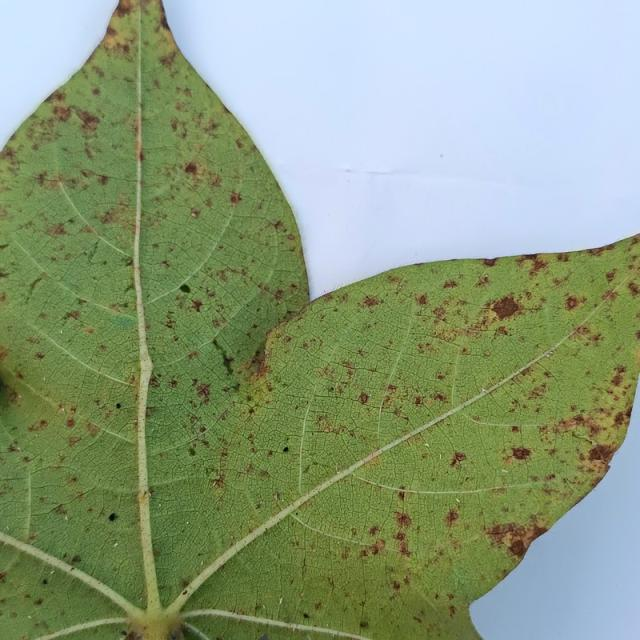Bacterial_Blight: (245, 344, 269, 381), (69, 106, 100, 133), (489, 295, 521, 321), (586, 443, 616, 464), (571, 430, 598, 450), (99, 206, 126, 225), (243, 390, 264, 413), (486, 523, 522, 536), (27, 271, 46, 293), (110, 315, 136, 331), (507, 537, 526, 557), (528, 258, 550, 275), (158, 49, 177, 68), (309, 478, 327, 498), (45, 222, 68, 237), (481, 309, 500, 327), (366, 539, 386, 556), (449, 451, 467, 469), (208, 472, 226, 490), (315, 416, 334, 433), (220, 353, 234, 376), (86, 241, 100, 263), (510, 446, 531, 460), (564, 295, 582, 311), (53, 105, 71, 121), (195, 382, 211, 400), (444, 508, 460, 526), (361, 294, 381, 308), (159, 9, 171, 30), (395, 512, 411, 527), (179, 281, 193, 297), (184, 162, 199, 176), (611, 372, 625, 387), (64, 309, 81, 321), (123, 281, 136, 296), (159, 257, 172, 271), (481, 257, 499, 267), (432, 392, 447, 404), (442, 279, 459, 289), (190, 299, 203, 312), (230, 191, 242, 205), (605, 269, 617, 283), (270, 374, 282, 387), (68, 436, 82, 447), (416, 294, 428, 306), (358, 392, 369, 404), (122, 634, 143, 640), (369, 525, 380, 536), (136, 359, 144, 374), (259, 469, 270, 478), (626, 405, 633, 418), (231, 382, 241, 391), (71, 554, 81, 563), (392, 580, 400, 591), (34, 351, 45, 359), (108, 513, 117, 522), (66, 418, 75, 427), (77, 297, 88, 304), (125, 258, 133, 267), (397, 491, 405, 500), (511, 425, 520, 433), (143, 489, 151, 498), (274, 491, 280, 502), (360, 620, 368, 628), (0, 243, 9, 250), (189, 448, 196, 456), (256, 636, 269, 640), (247, 395, 254, 402), (120, 629, 127, 636), (199, 426, 206, 433), (483, 274, 489, 281), (548, 349, 554, 356), (170, 635, 178, 640), (283, 446, 289, 452), (303, 613, 309, 619), (42, 579, 48, 585), (191, 212, 197, 218), (116, 403, 121, 409), (182, 590, 188, 595), (329, 387, 334, 392), (424, 442, 429, 447), (70, 567, 75, 571), (440, 154, 444, 158)
Cotton: (0, 0, 639, 639)
